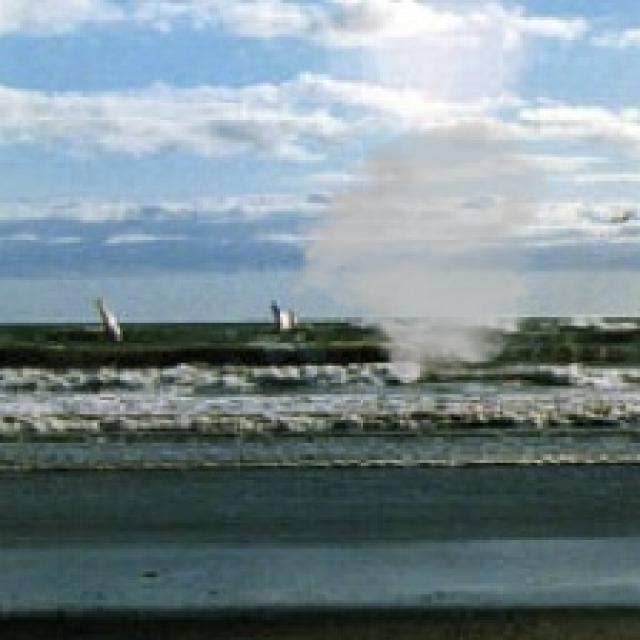smoke: (283, 114, 557, 386)
